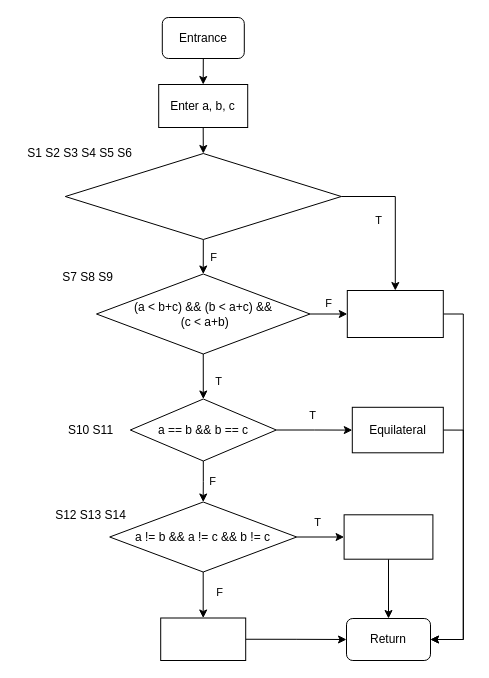
Image size: 489x678. Some labels were removed from this diagram. Here are the shapes that lost their labels. From the top down, the centre of each, then its label:
the point at 202,196: a <= 0 || a >= 200 || b <= 0 || b >= 200 || c <= 0 || c >= 200
the point at 394,314: Not a Triangle
the point at 388,536: Scalene
the point at 203,638: Isosceles
